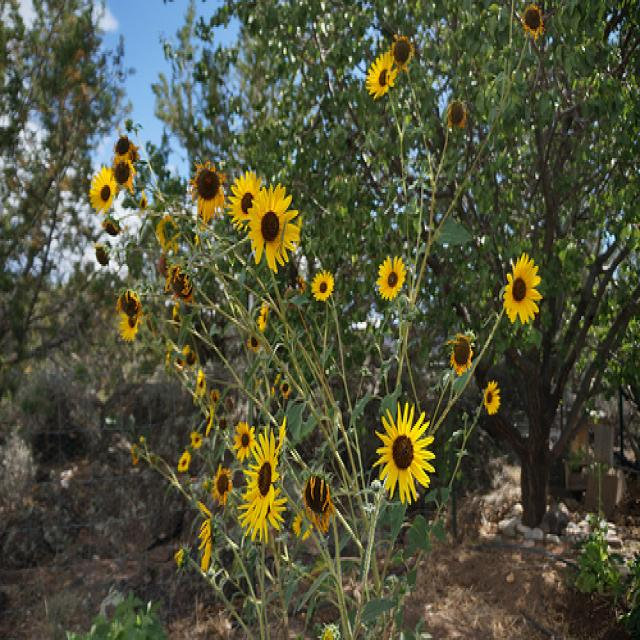sunflower: (374, 408, 439, 511), (244, 424, 285, 536), (247, 192, 298, 265), (501, 250, 542, 334), (190, 162, 229, 220), (356, 52, 399, 104), (115, 288, 150, 350), (369, 255, 410, 307), (84, 169, 120, 215)
